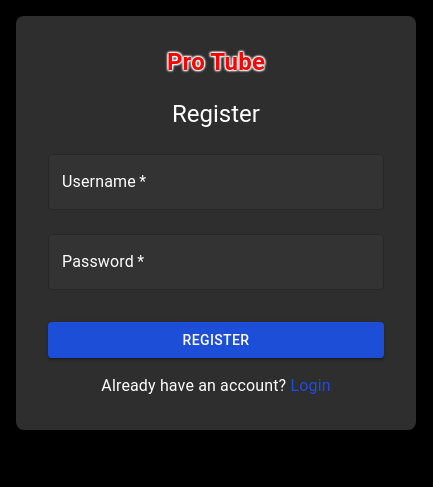
Register Component › should display an error message on failed registration
Type "wronguser" into the field labelled "Username *". click: coordinates (216, 182)
box: [48,154,384,210]
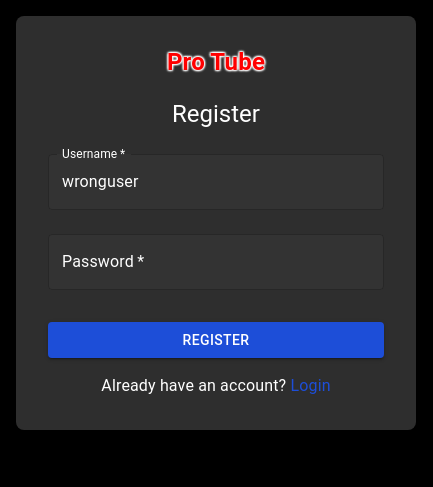
Type "wrongpassword" into the password field labelled "Password *". click: coordinates (216, 262)
box: [48,234,384,290]
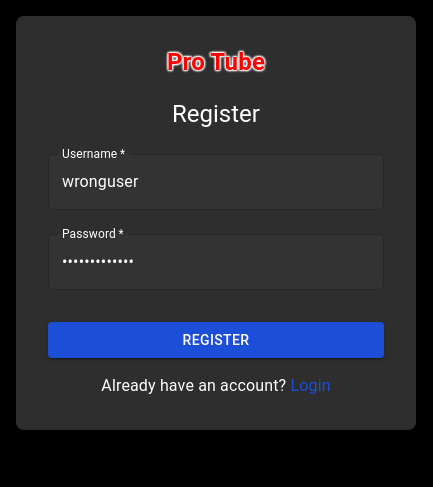
Click the button "REGISTER". click: coordinates (216, 340)
box: [48,322,384,358]
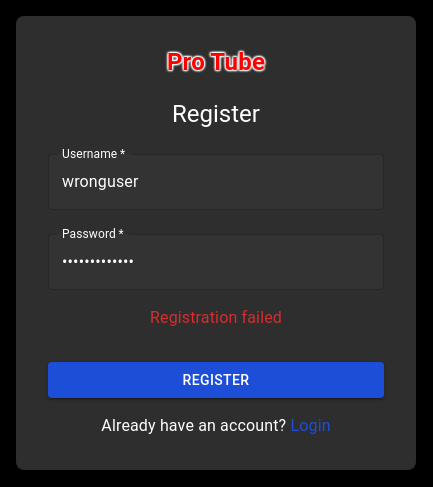
Result: the text "Registration failed" is shown at [150,308,282,327]
